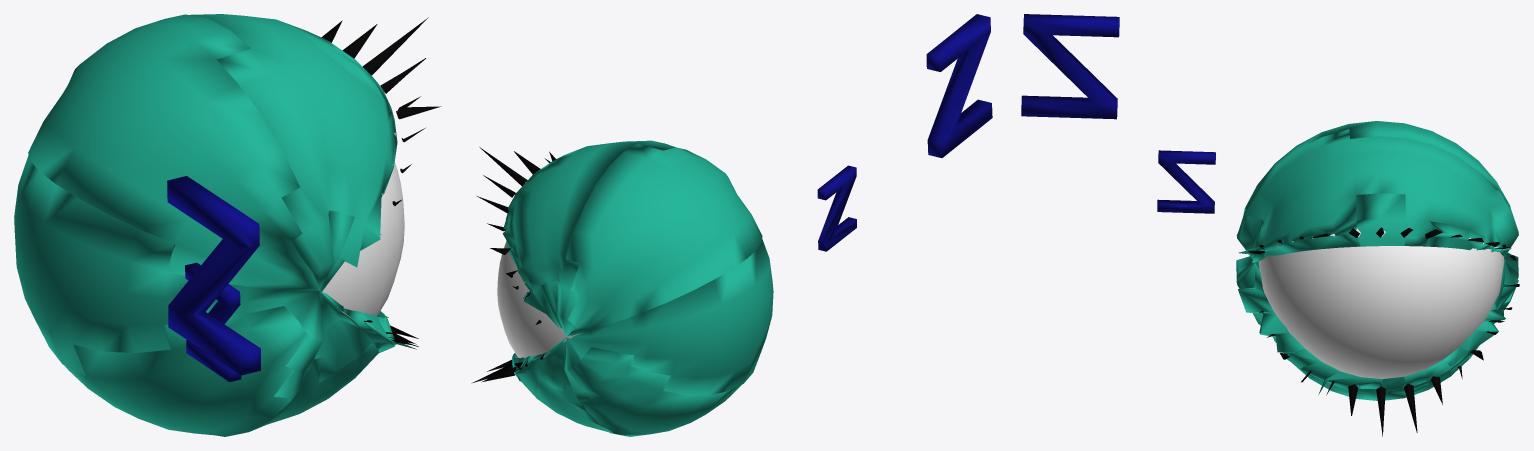
File: Eye_Am_SLEEP_Babeh.obj
3 renders of one model, left to right at view 1: azimuth 30°, elevation 25°; view 2: azimuth 150°, elevation 25°; view 3: azimuth 270°, elevation 25°, orthographic. The views are drawn at different scales.
Parts seen in each view (by area): view 1: Eyelid, Zz1, Eye, Zz2; view 2: Eyelid, Zz1, Eye, Zz2; view 3: Eyelid, Eye, Zz1, Zz2.
Part boxes in pixels (x1,y1,x2,y2): Eyelid: [14, 14, 441, 436]; Zz1: [167, 176, 260, 375]; Eye: [322, 162, 404, 320]; Zz2: [185, 262, 241, 382]; Eyelid: [471, 140, 773, 436]; Zz1: [926, 14, 992, 157]; Eye: [497, 241, 581, 360]; Zz2: [817, 165, 856, 251]; Eyelid: [1236, 121, 1519, 436]; Eye: [1258, 228, 1504, 378]; Zz1: [1021, 14, 1119, 119]; Zz2: [1157, 150, 1215, 213].
Size of the model in its own units: 86.62 by 79.52 by 122.
